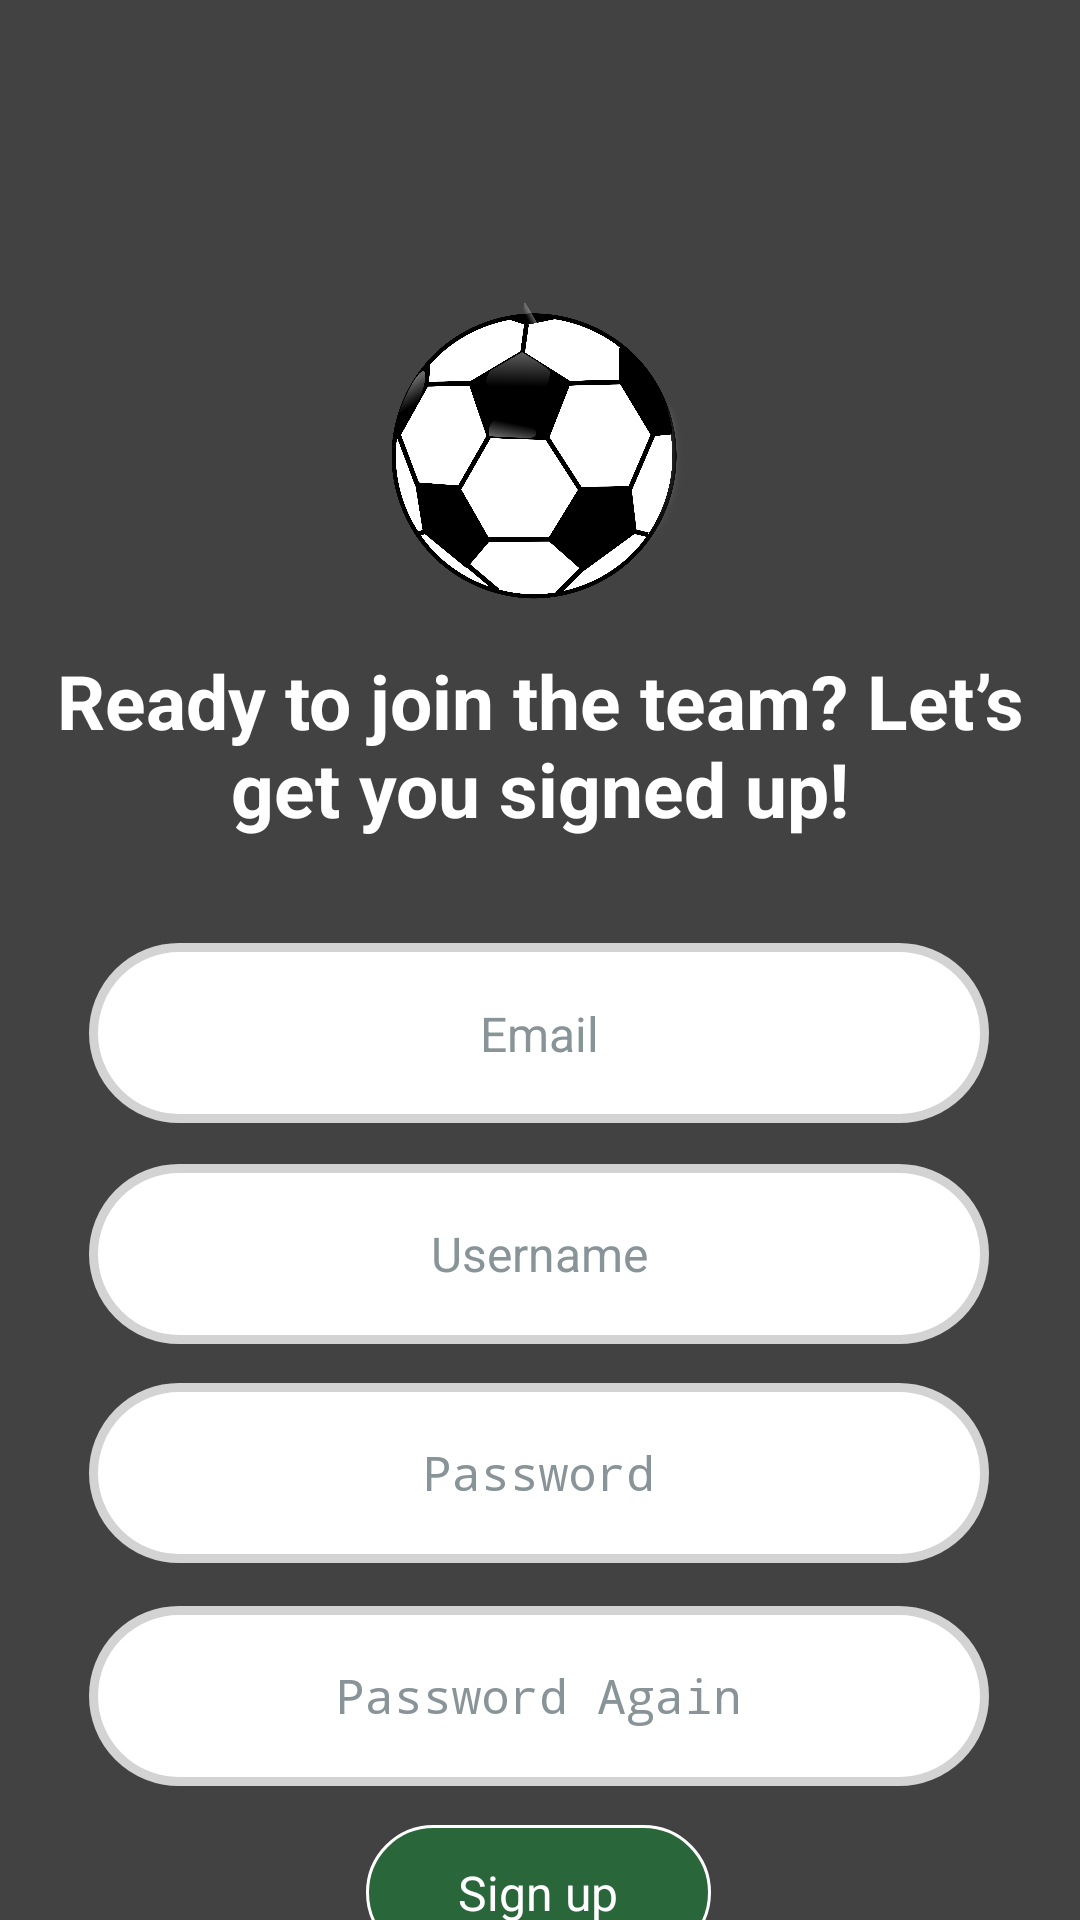

Screen size 1080*1920. Icon name, then its center in pixels as point (x, y):
Ball: point (534, 450)
